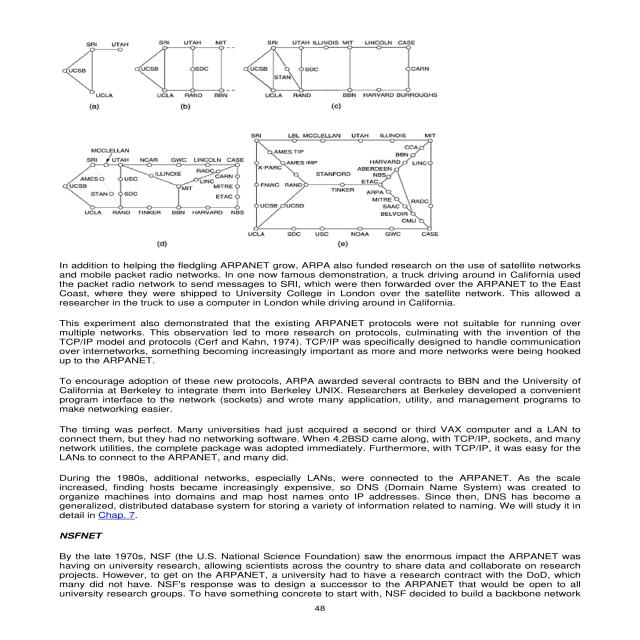diagram: (55, 33, 472, 252), (49, 42, 423, 170)
